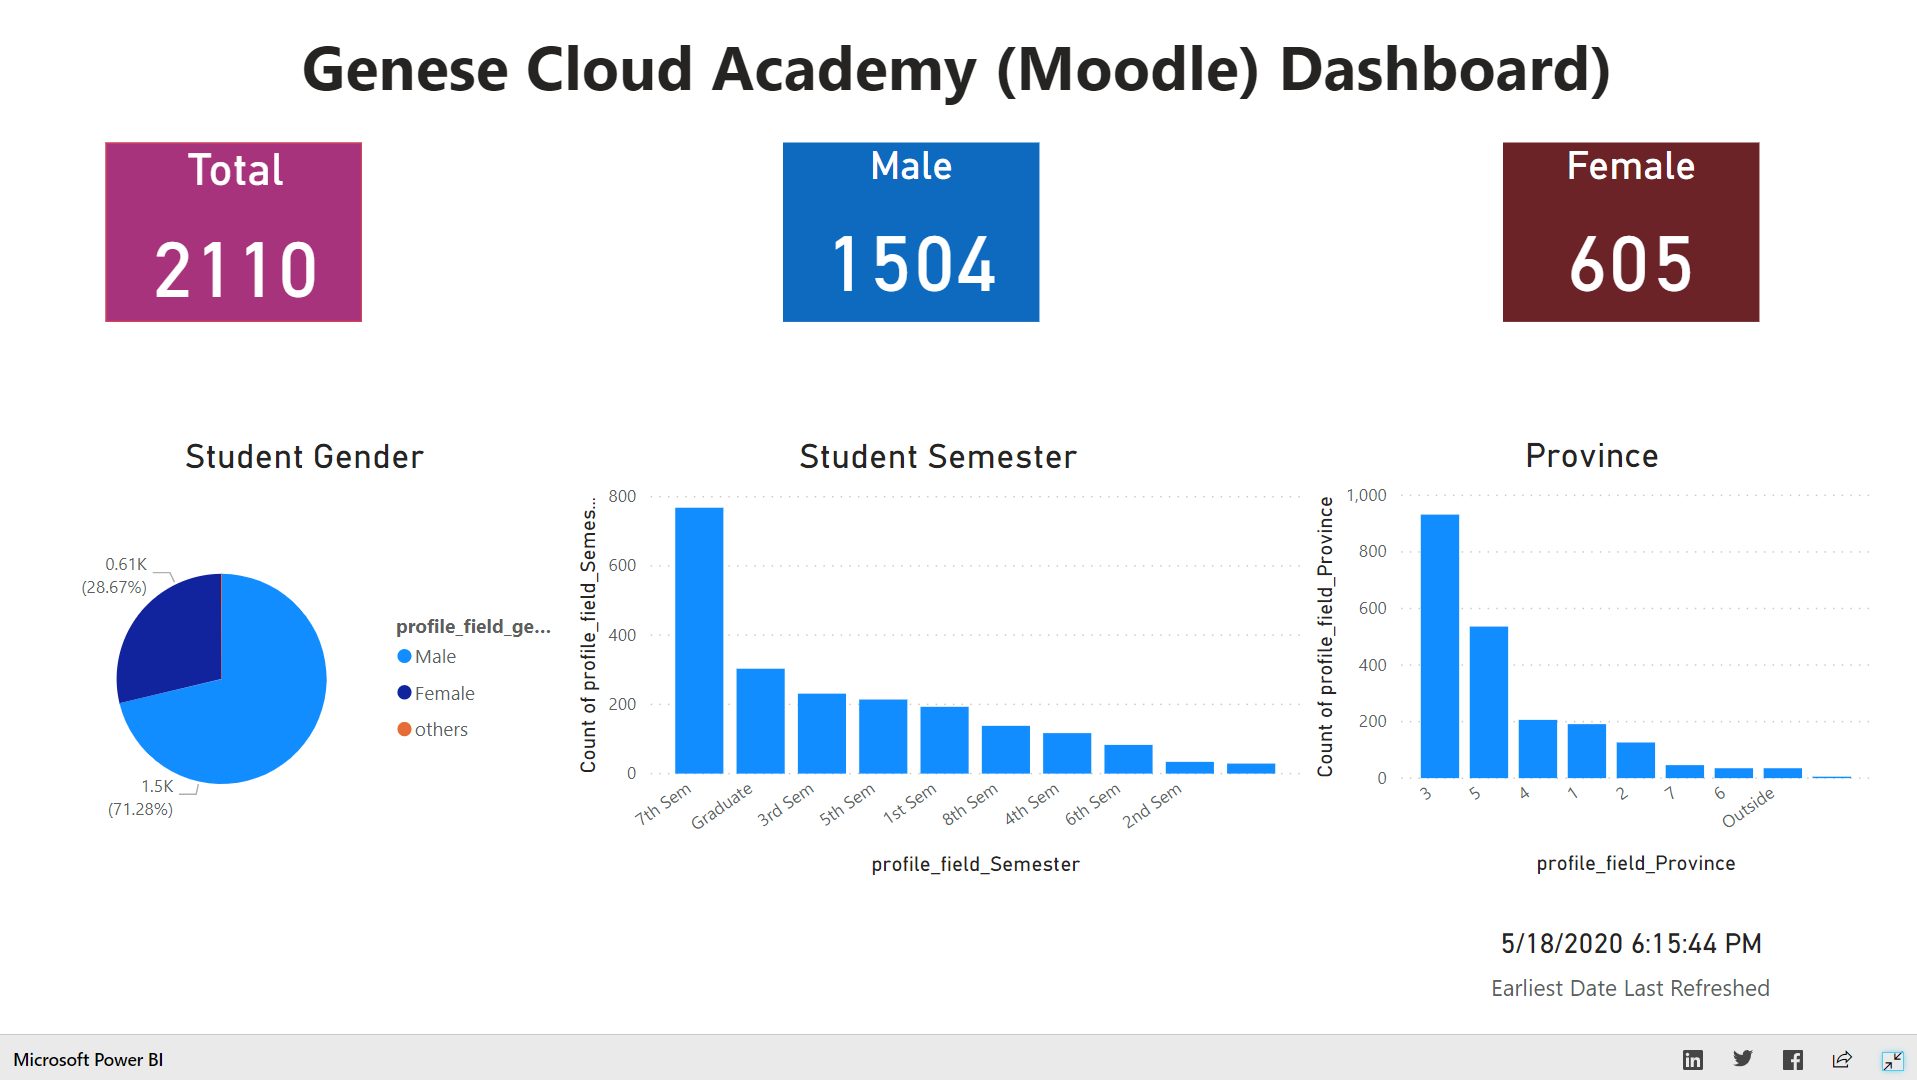

The dashboard page shown, as its layout file describes it:
{"tool":"powerbi","page":{"name":"Dashboard","canvas":[1280,720],"ordinal":0},"visuals":[{"type":"pieChart","title":"Student Gender","fields":{"Category":["user_latest.profile_field_gender1"],"Series":["user_latest.profile_field_gender1"],"Y":["CountNonNull(user_latest.profile_field_gender)"]},"box":[2.1,303.2,367.2,310.5],"z":0},{"type":"columnChart","title":"Student Semester","fields":{"Category":["user_latest.profile_field_Semester1"],"Y":["CountNonNull(user_latest.profile_field_Semester)1"]},"box":[369.4,303.2,513.4,310.5],"z":1000},{"type":"columnChart","title":"Province","fields":{"Category":["user_latest.profile_field_Province1"],"Y":["CountNonNull(user_latest.profile_field_Province)1"]},"box":[882.3,302.7,397.4,310.5],"z":2000},{"type":"card","title":"Total","fields":{"Values":["CountNonNull(user_latest.id)"]},"box":[47.1,98.8,178.8,124.4],"z":3000},{"type":"card","title":"Male","fields":{"Values":["CountNonNull(user_latest.profile_field_gender)"]},"box":[518.2,98.8,178.8,124.4],"z":4000},{"type":"card","title":"Female","fields":{"Values":["CountNonNull(user_latest.profile_field_gender)"]},"box":[1019.5,98.8,178.8,124.4],"z":5000},{"type":"textbox","box":[0,10.9,1279.3,72.5],"z":6000},{"type":"card","fields":{"Values":["Min(Kathmandu.datetime)"]},"box":[994.2,641.5,268.2,68.9],"z":7000}]}

Visuals, with their boxes on the page's 1280x720 design canvas (x1, y1, x2, y2). These are canvas units, not pixel positions in the 1917x1080 screenshot, which may show the page scaled, cropped or inside an application window:
"Student Gender" pieChart: bbox=(2, 303, 369, 614)
"Student Semester" columnChart: bbox=(369, 303, 883, 614)
"Province" columnChart: bbox=(882, 303, 1280, 613)
"Total" card: bbox=(47, 99, 226, 223)
"Male" card: bbox=(518, 99, 697, 223)
"Female" card: bbox=(1020, 99, 1198, 223)
textbox: bbox=(0, 11, 1279, 83)
card - Min(Kathmandu.datetime): bbox=(994, 642, 1262, 710)
